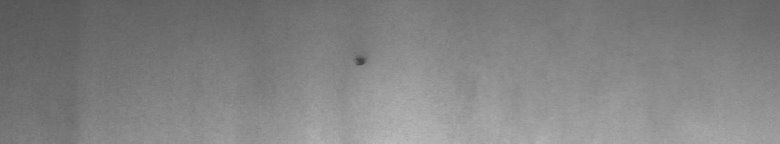fi: (352, 49, 368, 72)
